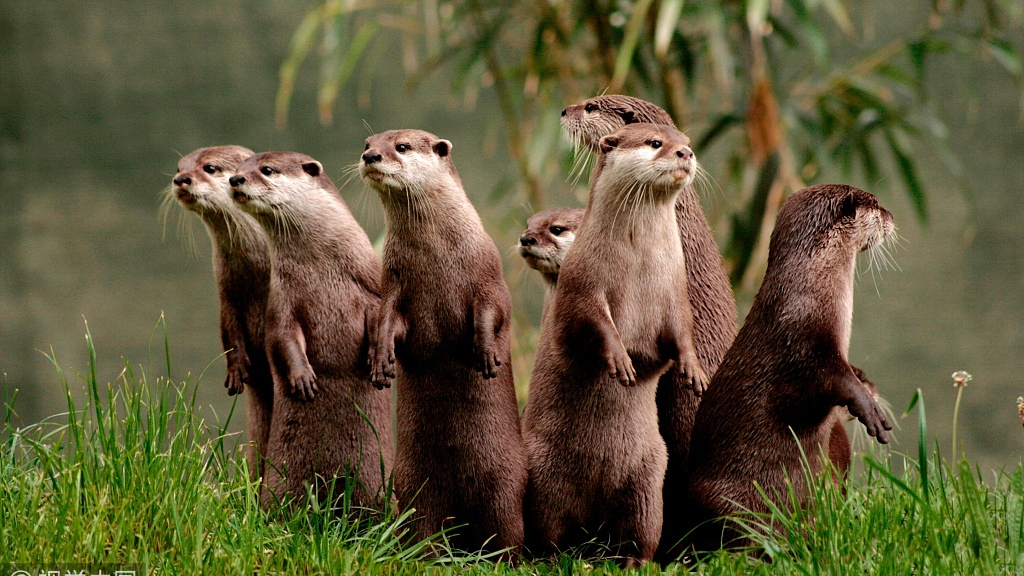otter: (352, 120, 540, 561), (522, 118, 703, 570), (706, 163, 909, 557)
